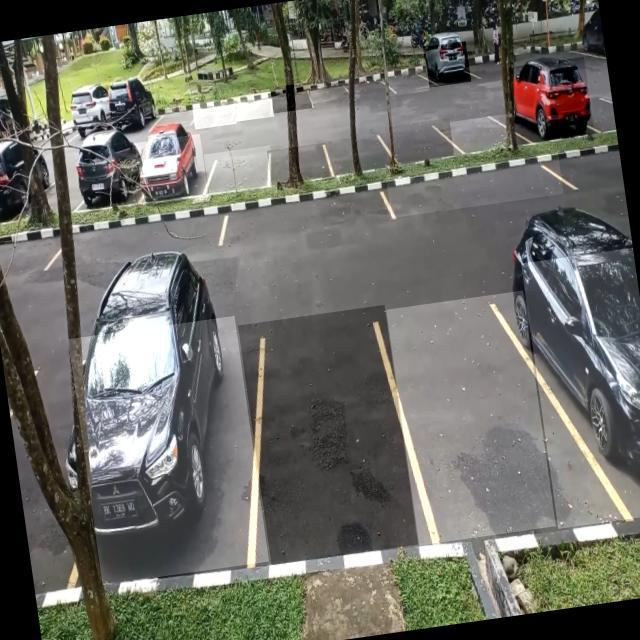empty: (238, 305, 418, 565), (386, 290, 556, 546), (385, 151, 564, 218), (220, 189, 392, 247), (204, 146, 276, 194), (385, 118, 454, 164), (266, 142, 331, 185), (326, 133, 390, 175), (450, 114, 513, 156), (385, 60, 430, 96), (192, 99, 237, 129), (270, 83, 312, 114), (308, 77, 351, 107), (232, 92, 274, 122)
occupied: (68, 316, 269, 584), (521, 248, 640, 529), (507, 56, 595, 144), (134, 134, 208, 205), (423, 41, 471, 88)
